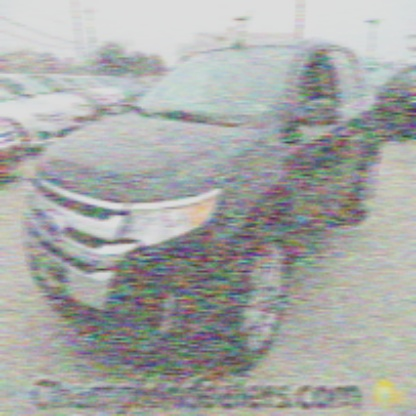Vehicle: (22, 8, 381, 366)
